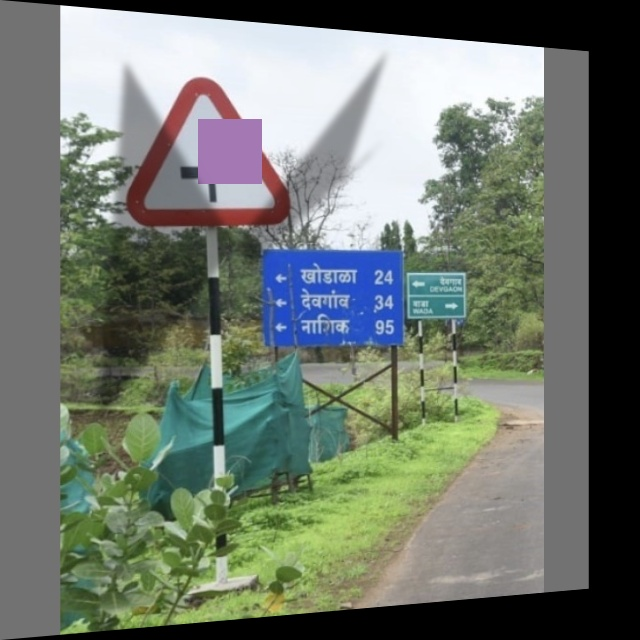T_Intersection: (125, 77, 295, 226)
